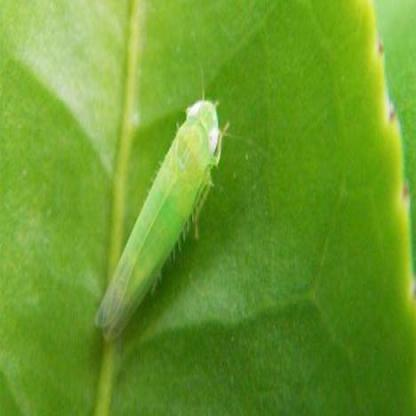Green-Leafhopper: (94, 91, 225, 338)
